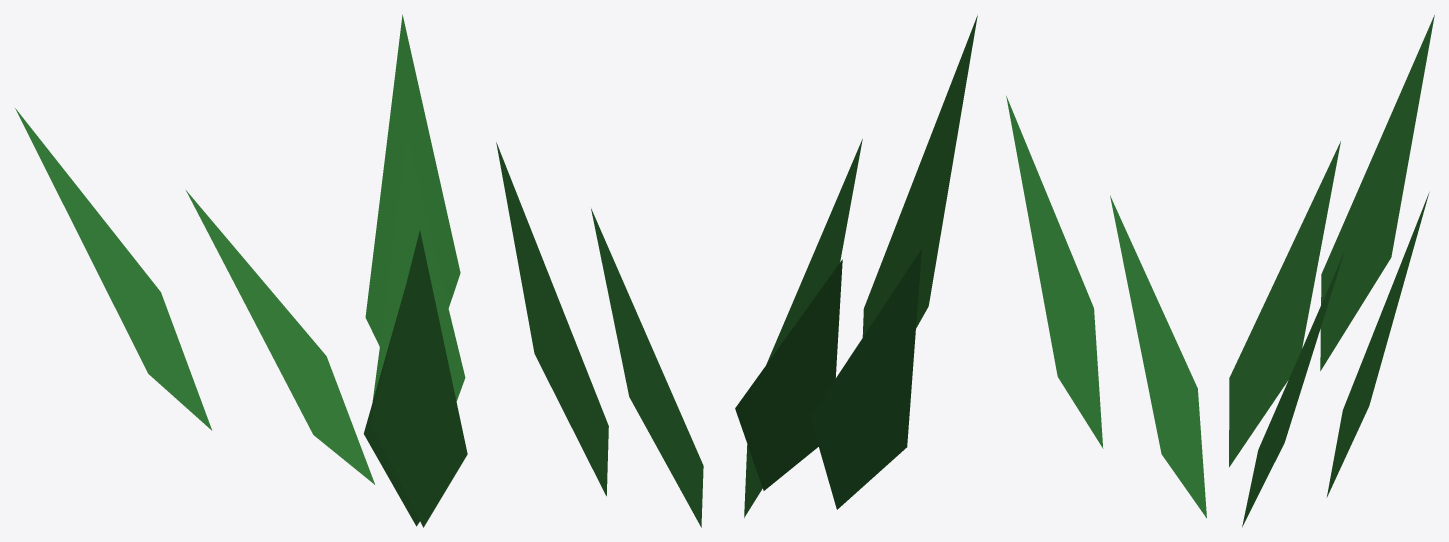
The model's file is strawberry_stage_1.glb.
3 renders of one model, left to right at view 1: azimuth 30°, elevation 25°; view 2: azimuth 150°, elevation 25°; view 3: azimuth 270°, elevation 25°, orthographic. The views are drawn at different scales.
Visible parts, largest first — view 1: Plane.007, Plane.005, Plane.006, Plane.004, Plane.002, Plane.003; view 2: Plane.005, Plane.004, Plane.006, Plane.007, Plane.002, Plane.003; view 3: Plane.005, Plane.004, Plane.007, Plane.003, Plane.006, Plane.002.
Boxes of the visible parts, x1,y1,x2,y2 form: Plane.007: [371, 230, 467, 527]; Plane.005: [15, 108, 212, 430]; Plane.006: [365, 14, 460, 346]; Plane.004: [186, 190, 374, 484]; Plane.002: [372, 140, 465, 401]; Plane.003: [363, 290, 419, 526]; Plane.005: [810, 249, 921, 509]; Plane.004: [735, 259, 842, 490]; Plane.006: [496, 142, 608, 496]; Plane.007: [862, 15, 977, 337]; Plane.002: [591, 208, 703, 527]; Plane.003: [744, 139, 862, 517]; Plane.005: [1320, 15, 1434, 370]; Plane.004: [1229, 141, 1340, 467]; Plane.007: [1006, 96, 1103, 448]; Plane.003: [1110, 195, 1206, 518]; Plane.006: [1326, 192, 1429, 497]; Plane.002: [1242, 251, 1344, 527].
Size of the model in its own units: 0.3373 by 0.3247 by 0.3352.
